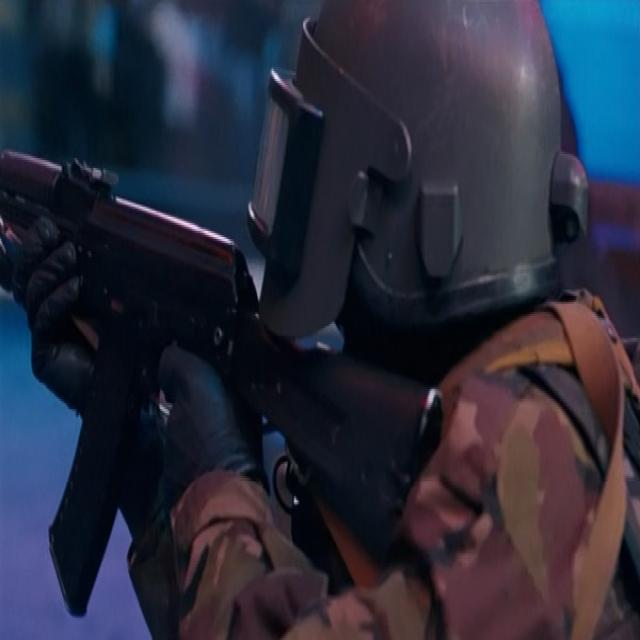rifle: (1, 146, 446, 621)
